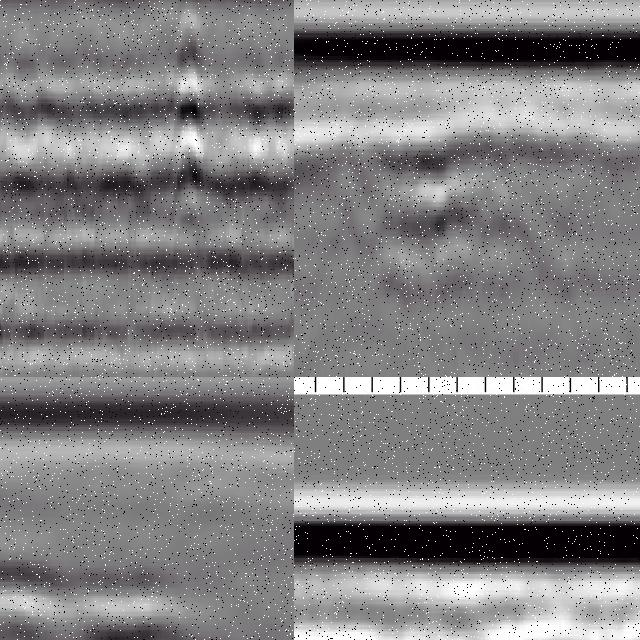crack: (175, 1, 207, 261)
loose: (369, 127, 560, 290), (1, 537, 265, 640)
